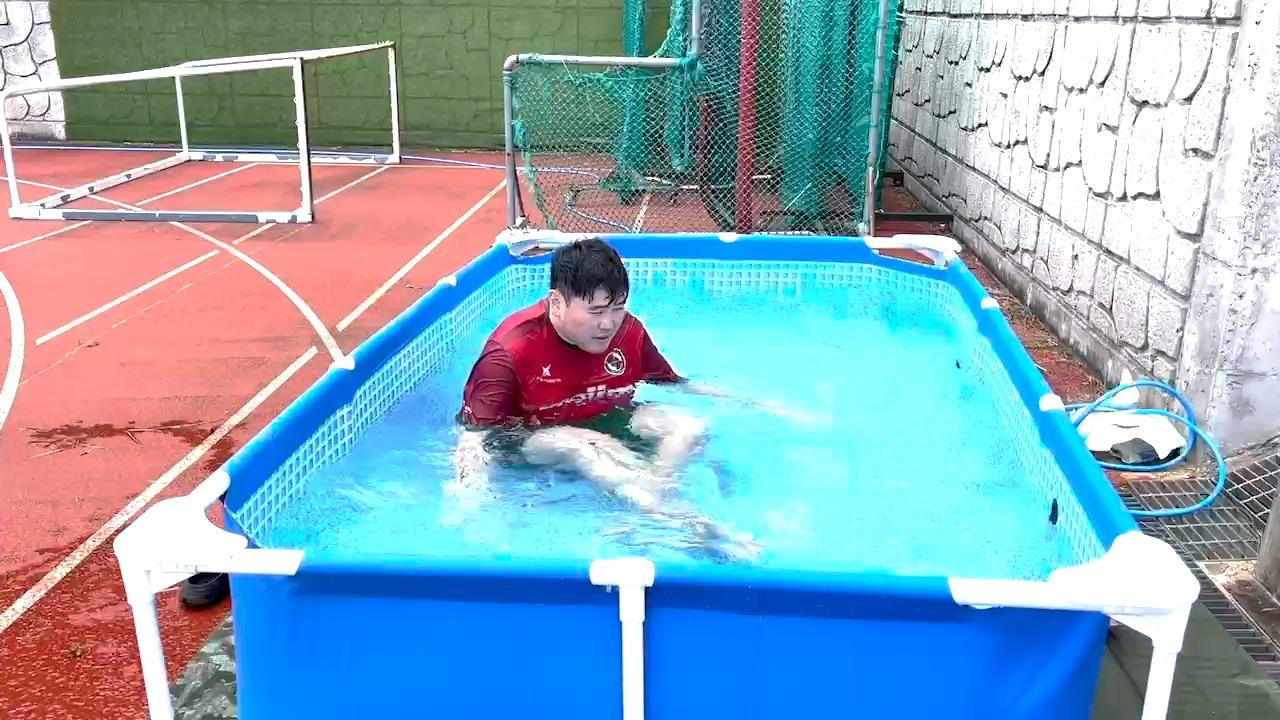Drowning: (439, 253, 728, 509)
